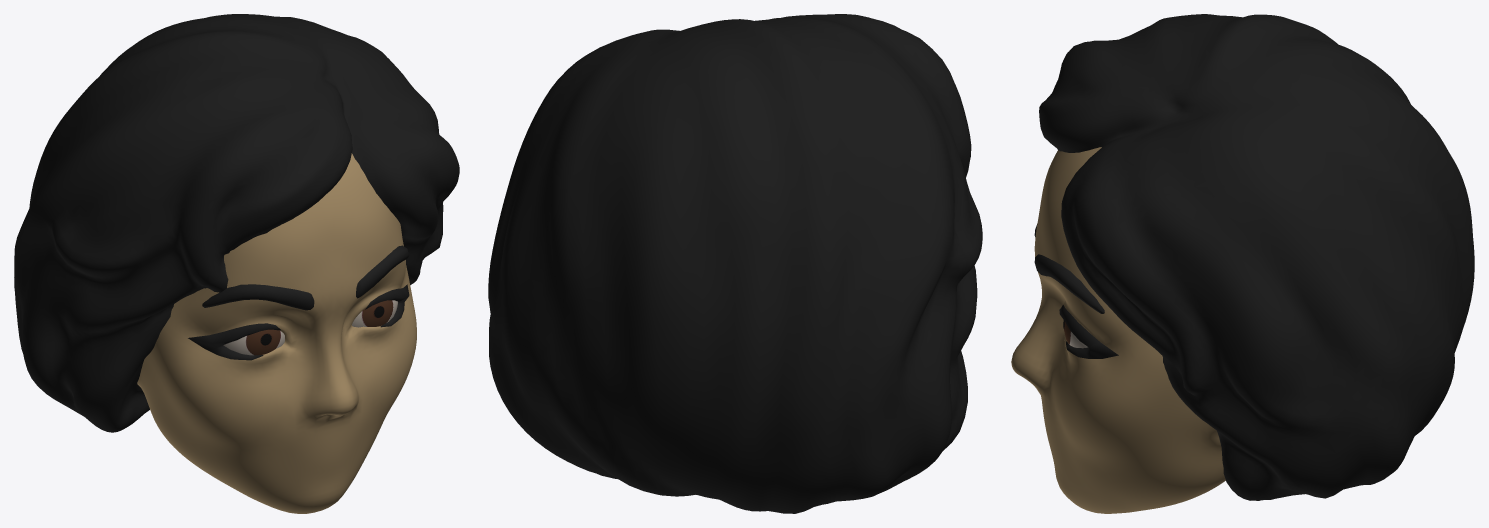
The model's file is head.fbx.
3 views of the same model, side by side, from view 1: azimuth 30°, elevation 25°; view 2: azimuth 150°, elevation 25°; view 3: azimuth 270°, elevation 25° (orthographic). The views are drawn at different scales.
Parts seen in each view (by area): view 1: Head; view 2: Head; view 3: Head.
Part boxes in pixels (x1=…): Head: x1=14, y1=14, x2=459, y2=513; Head: x1=488, y1=14, x2=982, y2=513; Head: x1=1011, y1=14, x2=1474, y2=513.
Size of the model in its own units: 38.71 by 40.62 by 36.22.
1 material, 1 textured.
